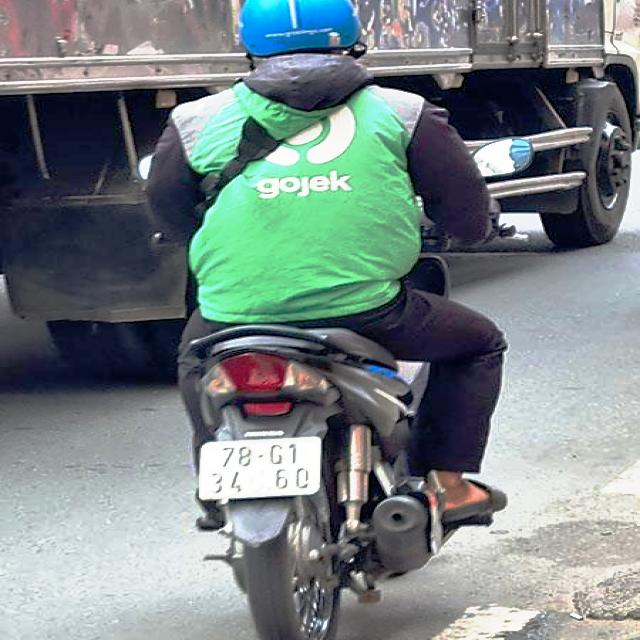license_plate: (200, 436, 325, 500)
